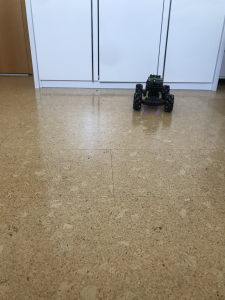remote control car: (132, 73, 175, 113)
